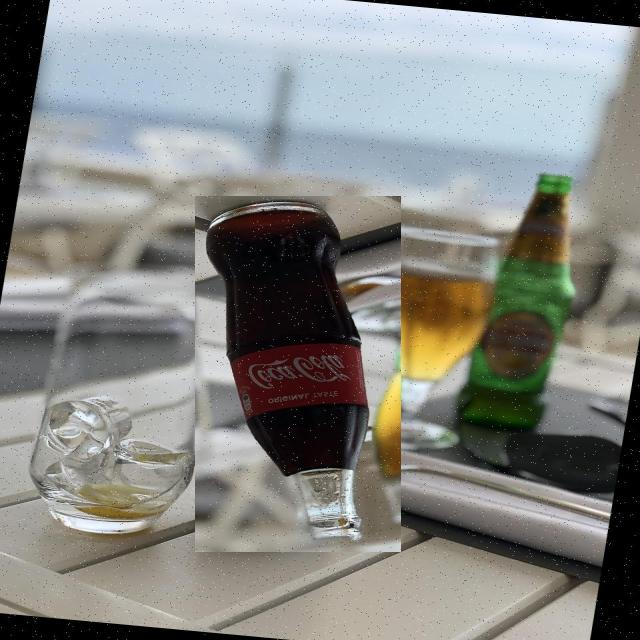coca-cola: (195, 196, 401, 552)
